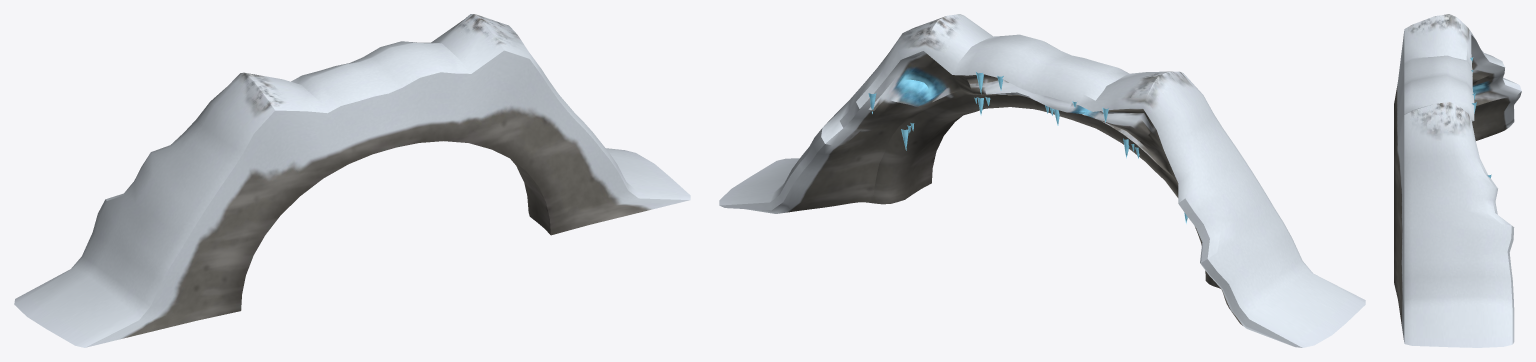
Rendered from SM_IceCave_Entrance.glb.
3 renders of one model, left to right at view 1: azimuth 30°, elevation 25°; view 2: azimuth 150°, elevation 25°; view 3: azimuth 270°, elevation 25°, orthographic. The views are drawn at different scales.
Parts seen in each view (by area): view 1: SM_IceCave_Entrance; view 2: SM_IceCave_Entrance; view 3: SM_IceCave_Entrance.
Part boxes in pixels (bbox=[...]): SM_IceCave_Entrance: bbox=[14, 14, 690, 347]; SM_IceCave_Entrance: bbox=[719, 14, 1365, 347]; SM_IceCave_Entrance: bbox=[1394, 14, 1521, 347].
Size of the model in its own units: 32.42 by 10.42 by 7.15.
1 material, 1 textured.
